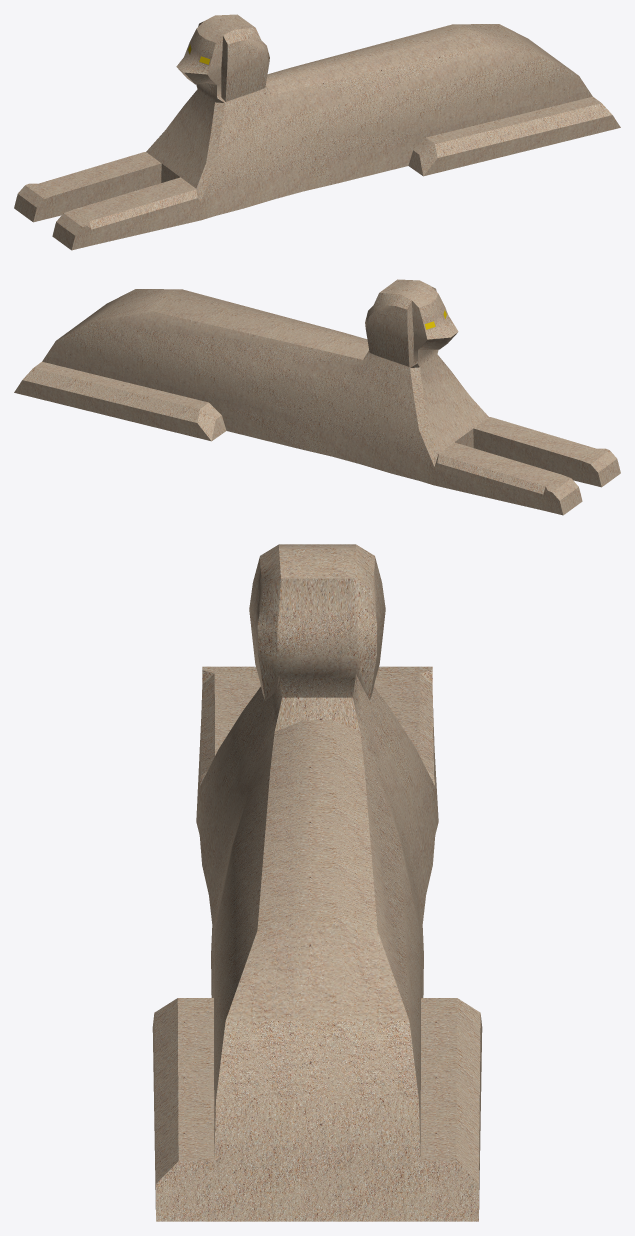
Rendered from sphinx.fbx.
3 renders of one model, top to bottom at view 1: azimuth 30°, elevation 25°; view 2: azimuth 150°, elevation 25°; view 3: azimuth 270°, elevation 25°, orthographic. The views are drawn at different scales.
Visible parts, largest first — view 1: sphinx; view 2: sphinx; view 3: sphinx.
Part boxes in pixels (x1=…): sphinx: x1=14, y1=14, x2=620, y2=250; sphinx: x1=14, y1=279, x2=620, y2=515; sphinx: x1=152, y1=544, x2=482, y2=1221.
Bounding box in the file's own units: 1370 × 396 × 364.
